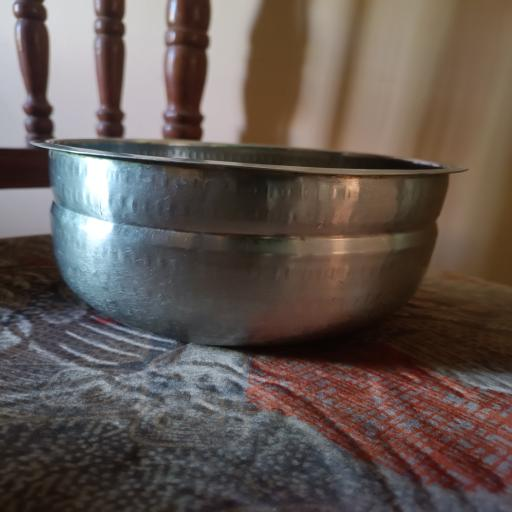vessel: (38, 139, 465, 346)
